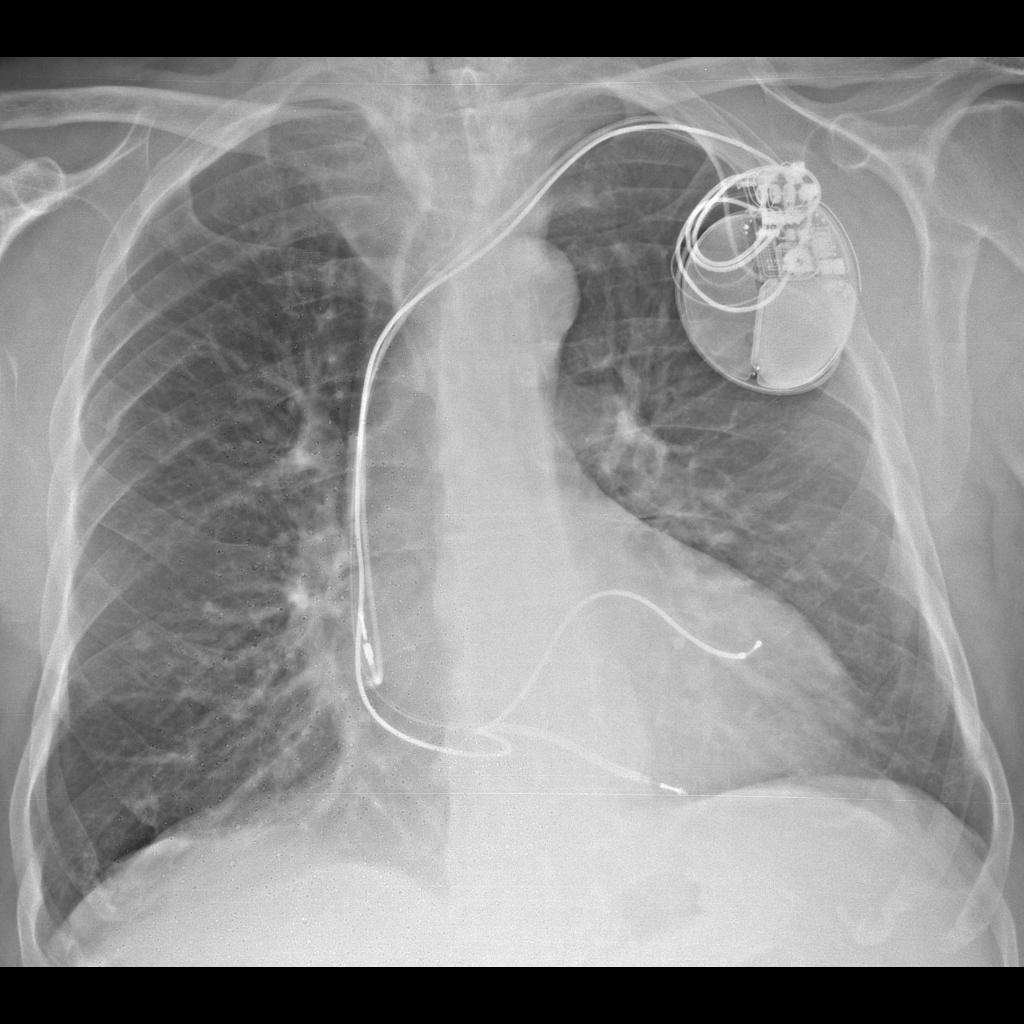Nodule: (123, 628, 165, 666)
